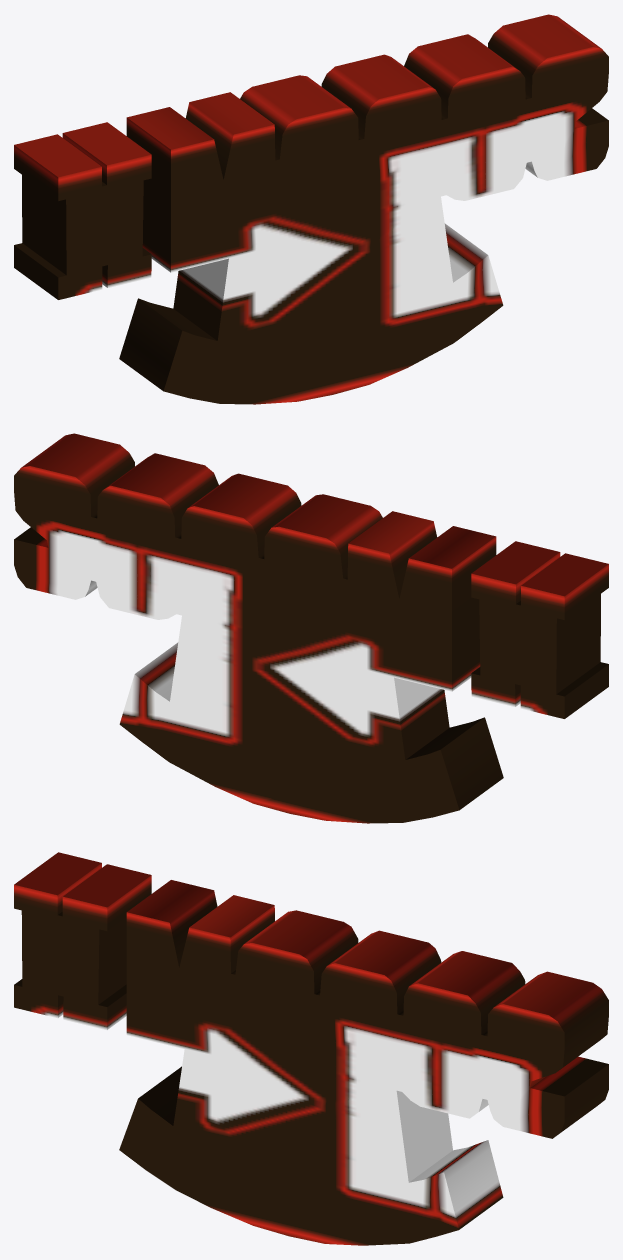
Rendered from LIST.ICO.obj.
3 renders of one model, top to bottom at view 1: azimuth 30°, elevation 25°; view 2: azimuth 150°, elevation 25°; view 3: azimuth 330°, elevation 25°, orthographic.
Bounding box in the file's own units: 4.84 × 2.39 × 0.6753.
